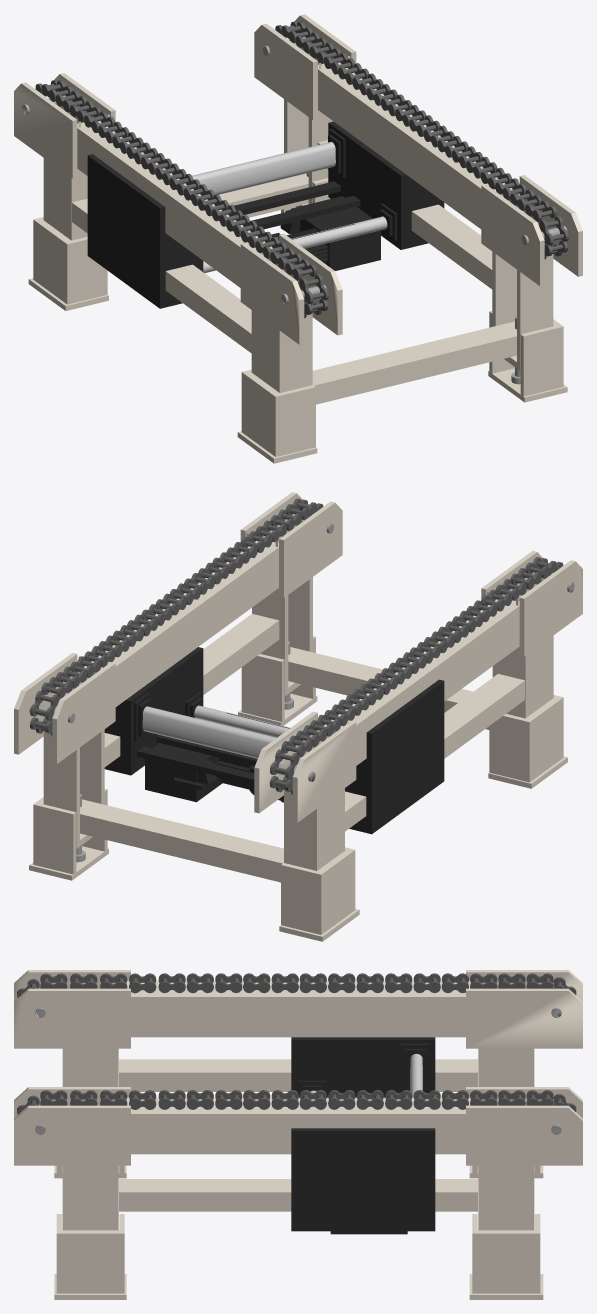
File: chain-short.glb
3 views of the same model, one above another, from view 1: azimuth 30°, elevation 25°; view 2: azimuth 150°, elevation 25°; view 3: azimuth 270°, elevation 25° (orthographic).
Parts seen in each view (by area): view 1: chain-short__三链机体001, chain-short__电机001, chain-short__链条001, chain-short__轴001__fixed, chain-short__轴001__island_0, chain-short__螺钉001; view 2: chain-short__三链机体001, chain-short__电机001, chain-short__链条001, chain-short__轴001__fixed, chain-short__轴001__island_0, chain-short__螺钉001; view 3: chain-short__三链机体001, chain-short__电机001, chain-short__链条001, chain-short__轴001__fixed.
Part boxes in pixels (x1=…): chain-short__三链机体001: x1=14, y1=14, x2=582, y2=463; chain-short__电机001: x1=87, y1=121, x2=444, y2=308; chain-short__链条001: x1=35, y1=21, x2=568, y2=318; chain-short__轴001__fixed: x1=192, y1=141, x2=335, y2=194; chain-short__轴001__island_0: x1=203, y1=216, x2=387, y2=272; chain-short__螺钉001: x1=22, y1=37, x2=567, y2=384; chain-short__三链机体001: x1=14, y1=492, x2=582, y2=941; chain-short__电机001: x1=104, y1=647, x2=444, y2=834; chain-short__链条001: x1=30, y1=498, x2=563, y2=794; chain-short__轴001__fixed: x1=142, y1=706, x2=276, y2=758; chain-short__轴001__island_0: x1=194, y1=705, x2=289, y2=737; chain-short__螺钉001: x1=29, y1=514, x2=574, y2=862; chain-short__三链机体001: x1=14, y1=970, x2=582, y2=1299; chain-short__电机001: x1=291, y1=1037, x2=435, y2=1234; chain-short__链条001: x1=17, y1=973, x2=576, y2=1114; chain-short__轴001__fixed: x1=410, y1=1053, x2=422, y2=1097.
Bounding box in the file's own units: 1.47 × 0.9256 × 2.48.
